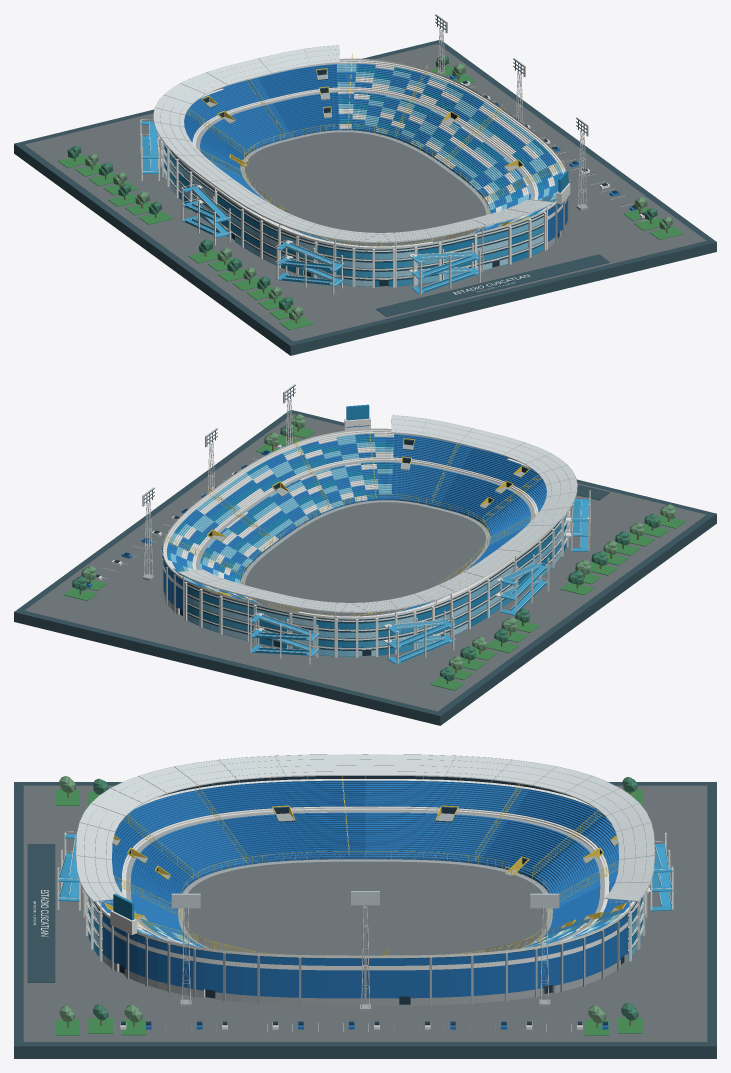
Rendered from cuscatlan-concert.glb.
3 views of the same model, one above another, from view 1: azimuth 30°, elevation 25°; view 2: azimuth 150°, elevation 25°; view 3: azimuth 270°, elevation 25° (orthographic). The views are drawn at different scales.
Parts seen in each view (by area): view 1: Pavimento.001, Blanco cal.001, Base maqueta.001, Azul alterno.001, Cubierta aluminio.001, Celeste claro, Celeste intenso, Azul Cuscatlan.001, Celeste medio, Cesped verde.001, Acero claro.001, Huecos azul sombra (+6 smaller); view 2: Pavimento.001, Blanco cal.001, Base maqueta.001, Azul alterno.001, Cubierta aluminio.001, Celeste claro, Celeste intenso, Azul Cuscatlan.001, Celeste medio, Cesped verde.001, Acero claro.001, Huecos azul sombra (+6 smaller); view 3: Pavimento.001, Azul Cuscatlan.001, Base maqueta.001, Azul alterno.001, Cubierta aluminio.001, Blanco cal.001, Hormigon.001, Acero claro.001, Pasillos amarillos.001, Cesped verde.001, Azul profundo.001, Celeste medio (+5 smaller).
Part boxes in pixels (box(x1,y1,x2,y2)): Pavimento.001: box(24, 44, 706, 341); Blanco cal.001: box(140, 27, 654, 294); Base maqueta.001: box(14, 40, 716, 355); Azul alterno.001: box(187, 63, 636, 249); Cubierta aluminio.001: box(153, 45, 551, 292); Celeste claro: box(149, 63, 561, 285); Celeste intenso: box(142, 67, 568, 292); Azul Cuscatlan.001: box(184, 64, 568, 249); Celeste medio: box(141, 121, 543, 294); Cesped verde.001: box(58, 65, 683, 330); Acero claro.001: box(153, 14, 588, 245); Huecos azul sombra: box(169, 79, 557, 280); Pavimento.001: box(24, 414, 706, 711); Blanco cal.001: box(95, 397, 590, 664); Base maqueta.001: box(14, 410, 716, 725); Azul alterno.001: box(87, 433, 546, 619); Cubierta aluminio.001: box(179, 415, 577, 611); Celeste claro: box(169, 434, 581, 656); Celeste intenso: box(167, 404, 589, 662); Azul Cuscatlan.001: box(162, 425, 543, 619); Celeste medio: box(222, 499, 589, 664); Cesped verde.001: box(63, 425, 685, 690); Acero claro.001: box(142, 384, 577, 615); Huecos azul sombra: box(163, 449, 564, 650); Pavimento.001: box(23, 785, 707, 1042); Azul Cuscatlan.001: box(103, 780, 632, 998); Base maqueta.001: box(14, 782, 716, 1058); Azul alterno.001: box(98, 780, 618, 1029); Cubierta aluminio.001: box(33, 754, 654, 924); Blanco cal.001: box(41, 759, 673, 1032); Hormigon.001: box(103, 810, 627, 1011); Acero claro.001: box(75, 754, 655, 1006); Pasillos amarillos.001: box(104, 776, 626, 955); Cesped verde.001: box(55, 790, 642, 1035); Azul profundo.001: box(119, 776, 624, 1025); Celeste medio: box(58, 834, 672, 960).
Size of the model in its own units: 227 by 52.35 by 255.
